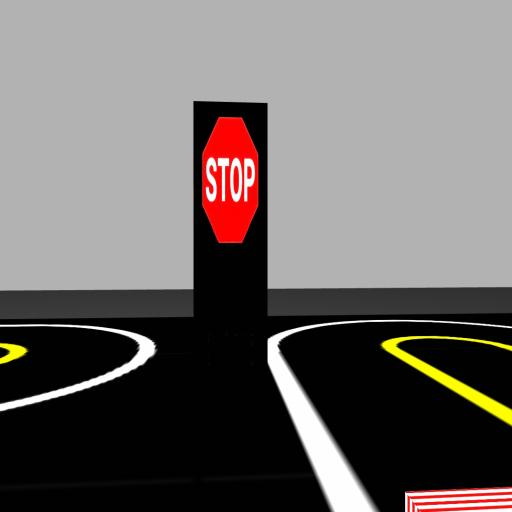Stop Sign: (202, 117, 259, 243)
